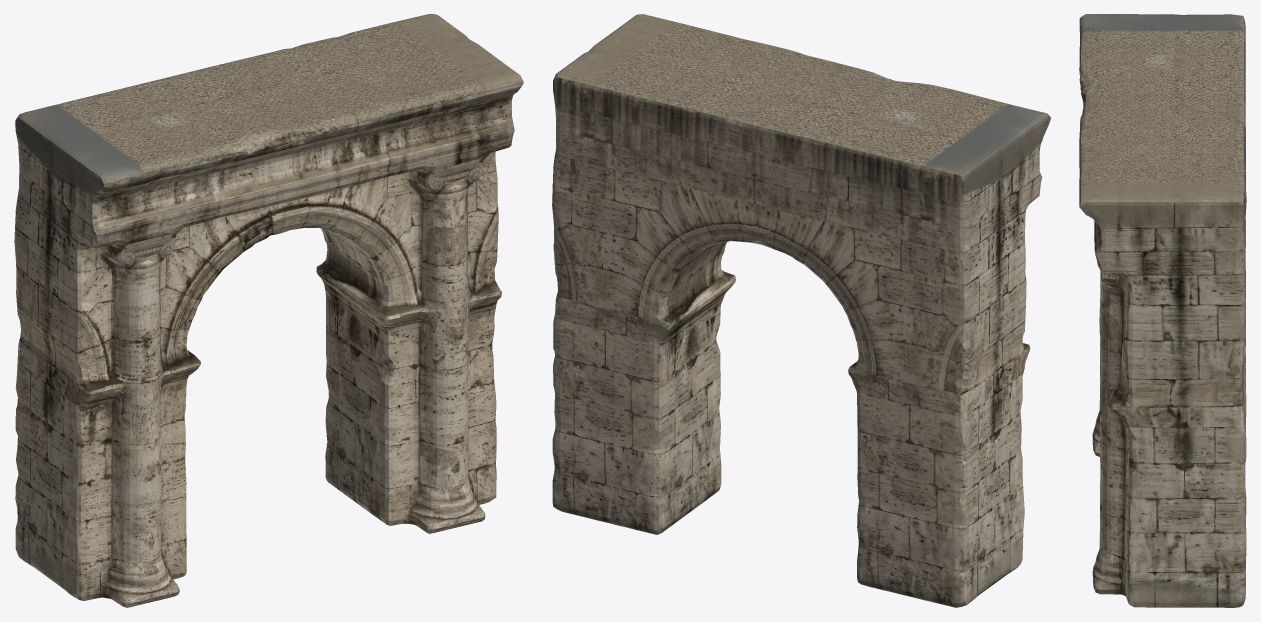
The model's file is arcade.glb.
The picture shows the model from 3 angles, left to right: view 1: azimuth 30°, elevation 25°; view 2: azimuth 150°, elevation 25°; view 3: azimuth 270°, elevation 25°; orthographic projection. The views are drawn at different scales.
Visible parts, largest first — view 1: lo; view 2: lo; view 3: lo.
Part boxes in pixels (box(x1,y1,x2,y2)): lo: box(14, 14, 523, 607); lo: box(552, 14, 1050, 607); lo: box(1079, 14, 1246, 607).
Size of the model in its own units: 4.6 by 4.63 by 1.72.
1 material, 1 textured.
